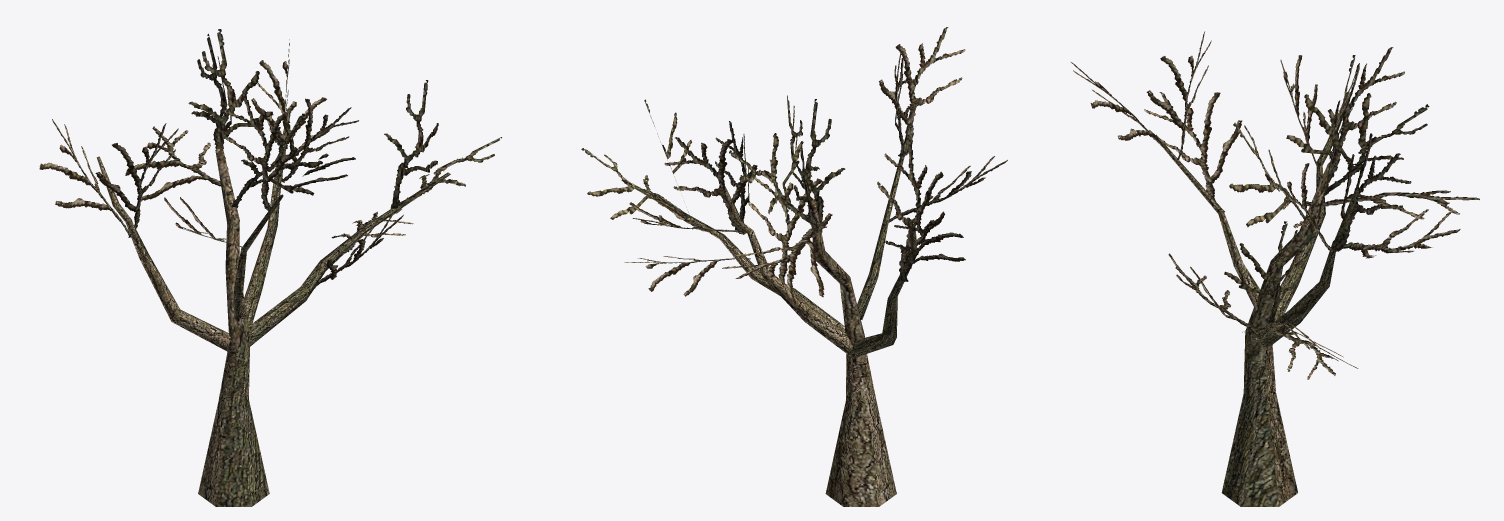
File: flora_tree_oak_dead_v2.glb
3 views of the same model, side by side, from view 1: azimuth 30°, elevation 25°; view 2: azimuth 150°, elevation 25°; view 3: azimuth 270°, elevation 25° (orthographic). The views are drawn at different scales.
Visible parts, largest first — view 1: flora_tree_oak_dead_v2_part0; view 2: flora_tree_oak_dead_v2_part0; view 3: flora_tree_oak_dead_v2_part0.
Part boxes in pixels (x1=…): flora_tree_oak_dead_v2_part0: x1=39, y1=29, x2=501, y2=506; flora_tree_oak_dead_v2_part0: x1=581, y1=27, x2=1007, y2=506; flora_tree_oak_dead_v2_part0: x1=1071, y1=31, x2=1479, y2=506.
Bounding box in the file's own units: 24.06 × 22.29 × 19.18.
1 material, 1 textured.
